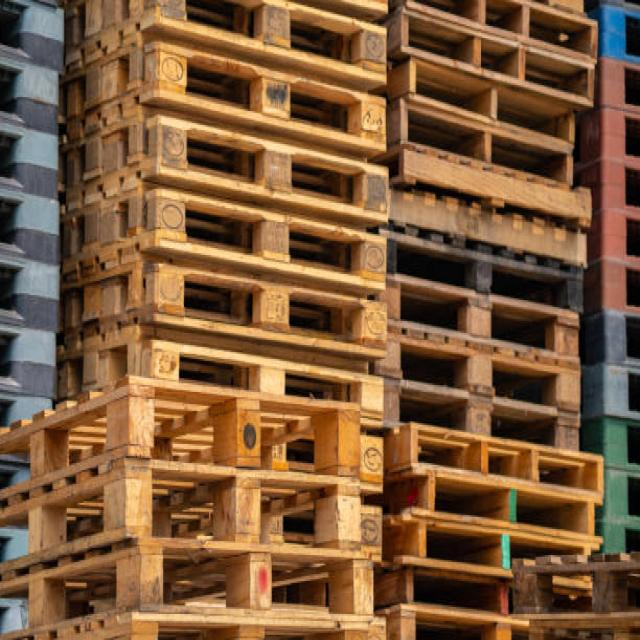Wooden-Pallets: (0, 367, 361, 500), (0, 457, 383, 575), (56, 19, 390, 150), (59, 172, 390, 267), (61, 262, 387, 356), (0, 546, 378, 626), (392, 1, 614, 119), (390, 259, 588, 364), (384, 364, 599, 452), (390, 416, 606, 503), (388, 93, 580, 189), (385, 507, 605, 577)
